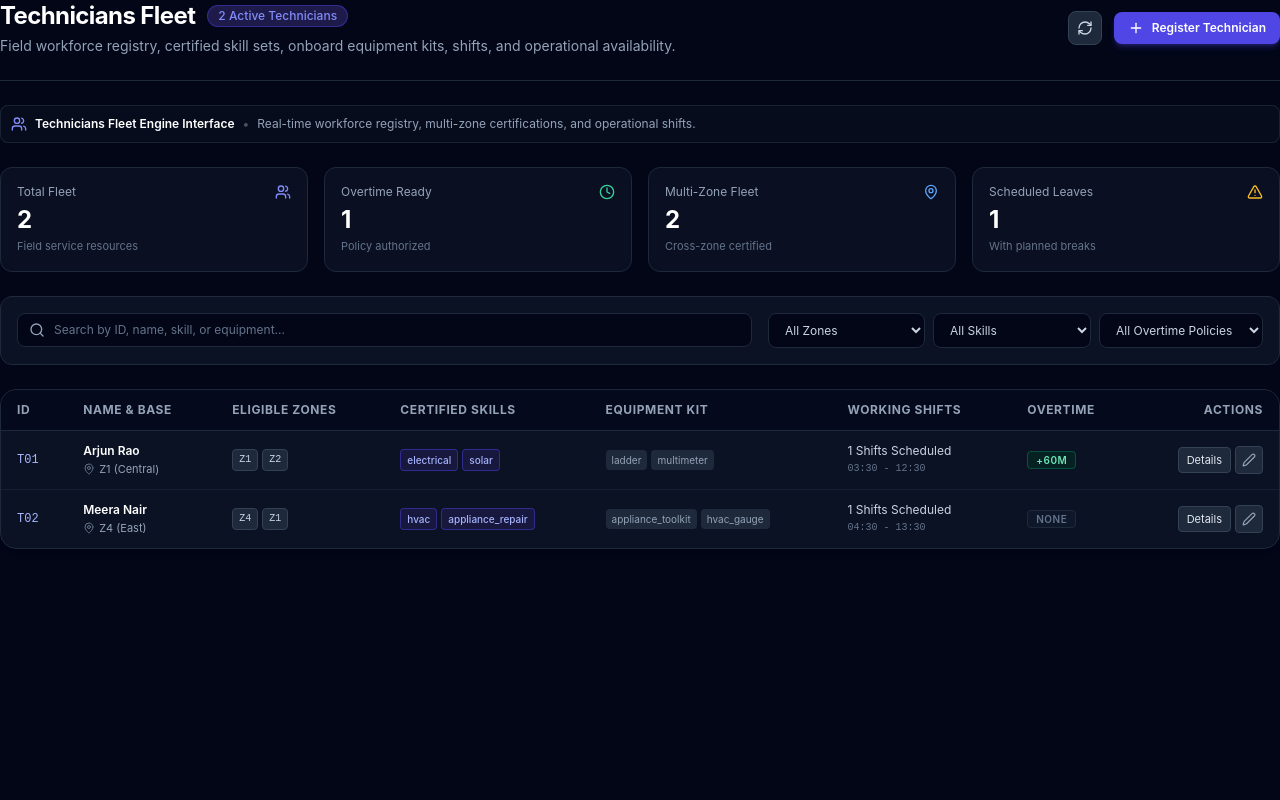
Test: TechniciansPage Component › opens technician detail inspection modal on click
Check: the text "Arjun Rao" is shown, box [83,442,140,458]
Click the button named "View Details for T01" at (1204, 460), box [1178,446,1231,472]
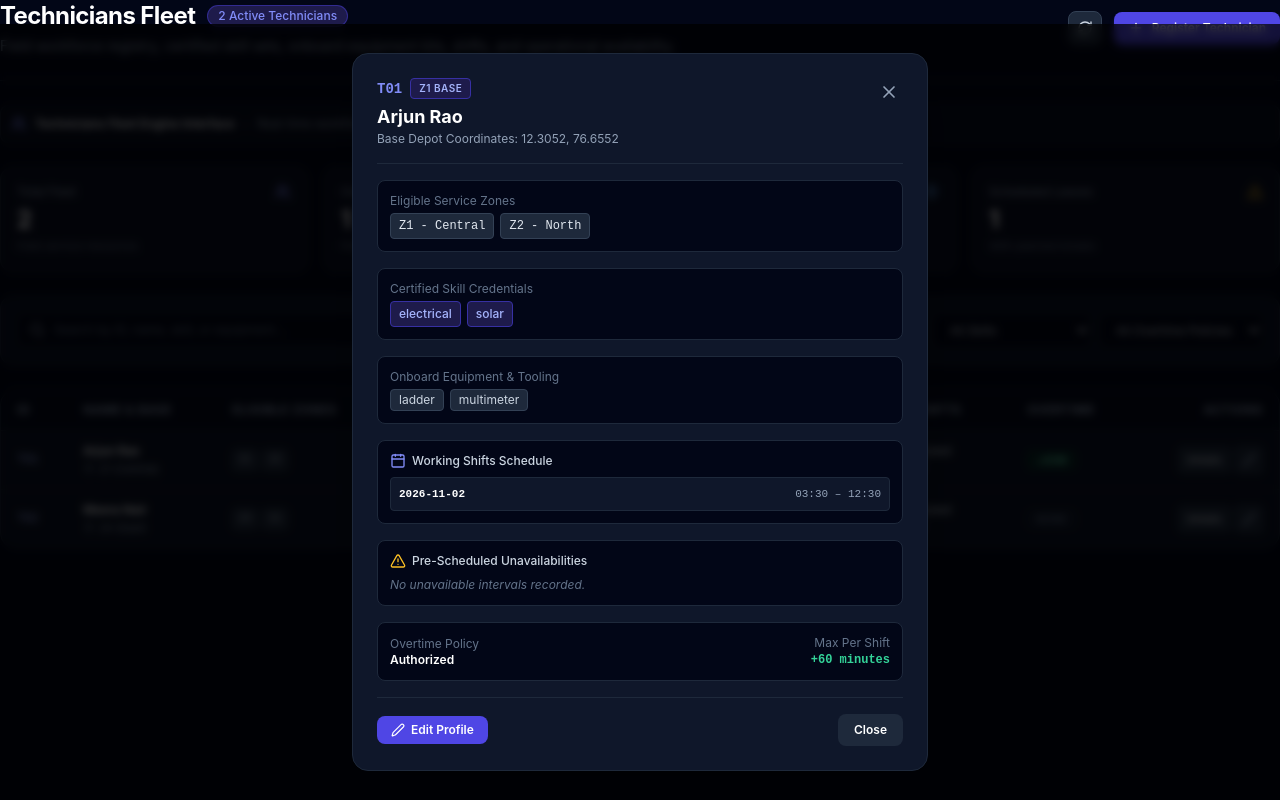
Check: the element with test id "technician-detail-modal" is shown
Check: the text "Working Shifts Schedule" is shown, box [412,453,552,469]
Check: the text "Certified Skill Credentials" is shown, box [390,281,533,296]
